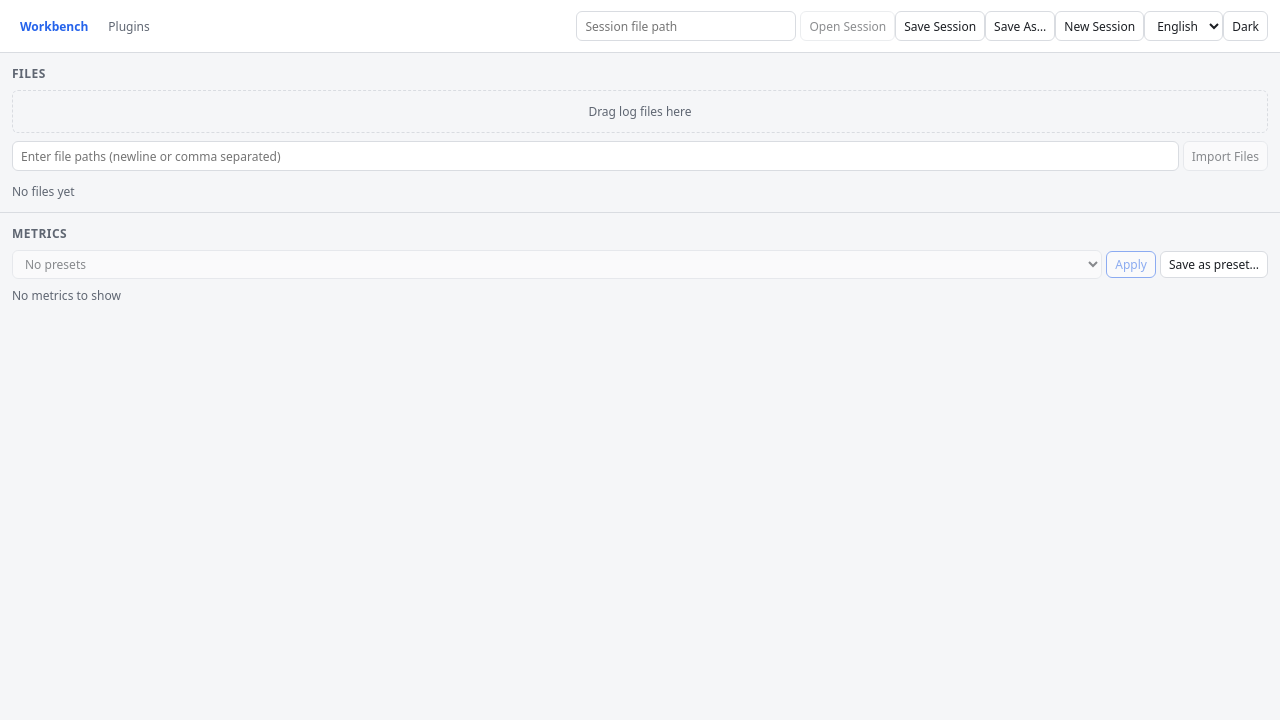
Test: 会话快照（契约 C1） › 打开会话重置 missing/reopenFailed 徽章状态（连续打开场景）
Type "C:\\sessions\\missing.absession" into the field labelled "Session file path" at (686, 26), box [576, 11, 796, 41]
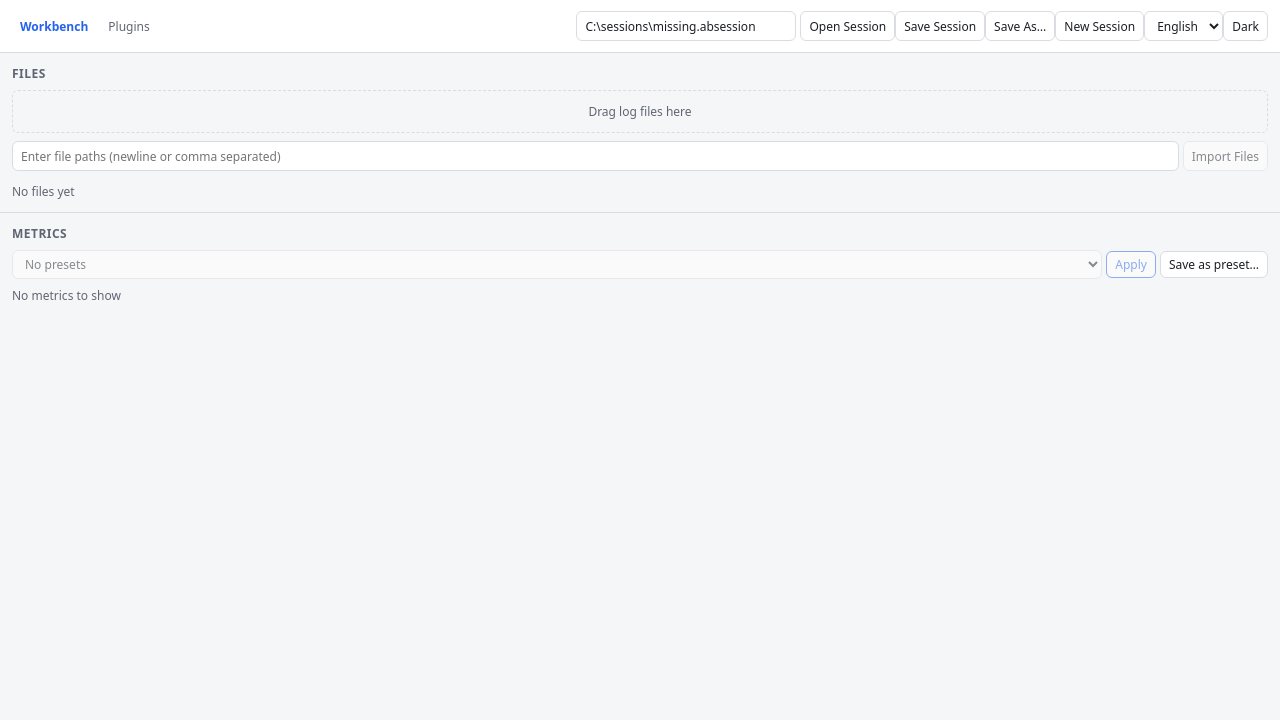
Click the button "Open Session" at (848, 26), box [800, 11, 895, 41]
Wait 500 ms
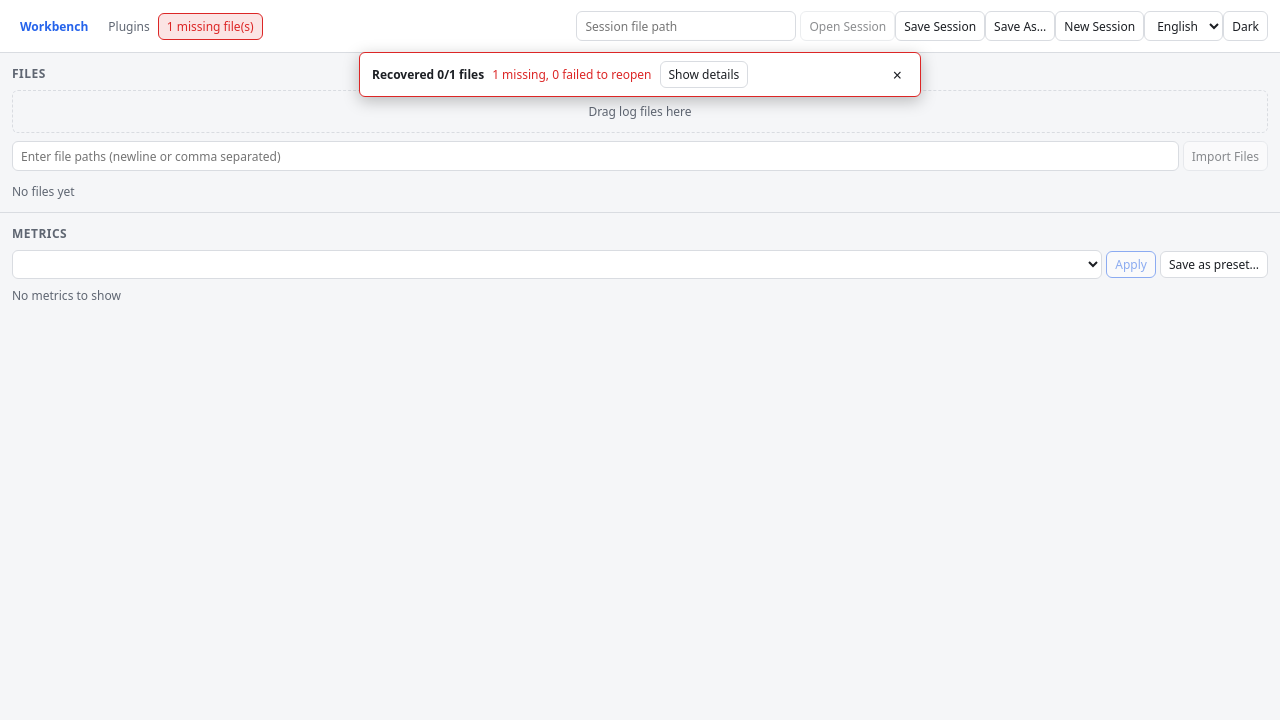
Expected: the message "1 missing file(s)" is shown, [158, 12, 263, 40]
Type "C:\\sessions\\ok.absession" into the field labelled "Session file path" at (686, 26), box [576, 11, 796, 41]
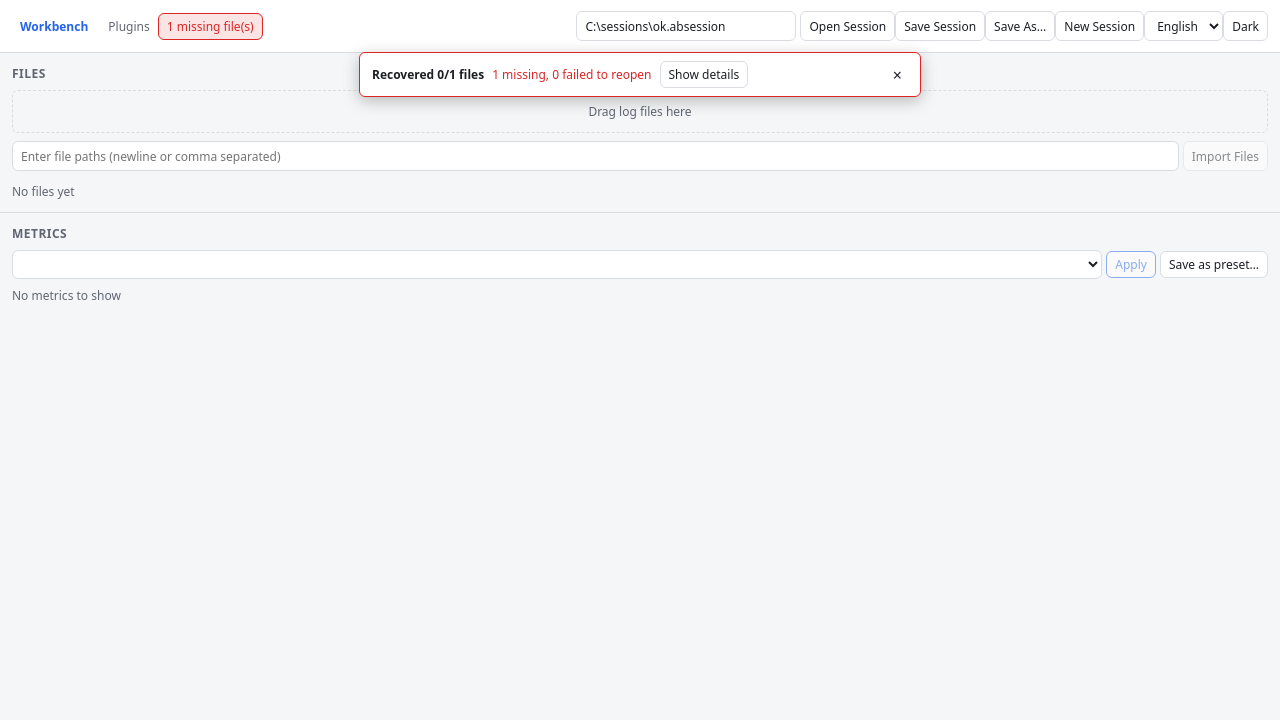
Click the button "Open Session" at (848, 26), box [800, 11, 895, 41]
Wait 500 ms
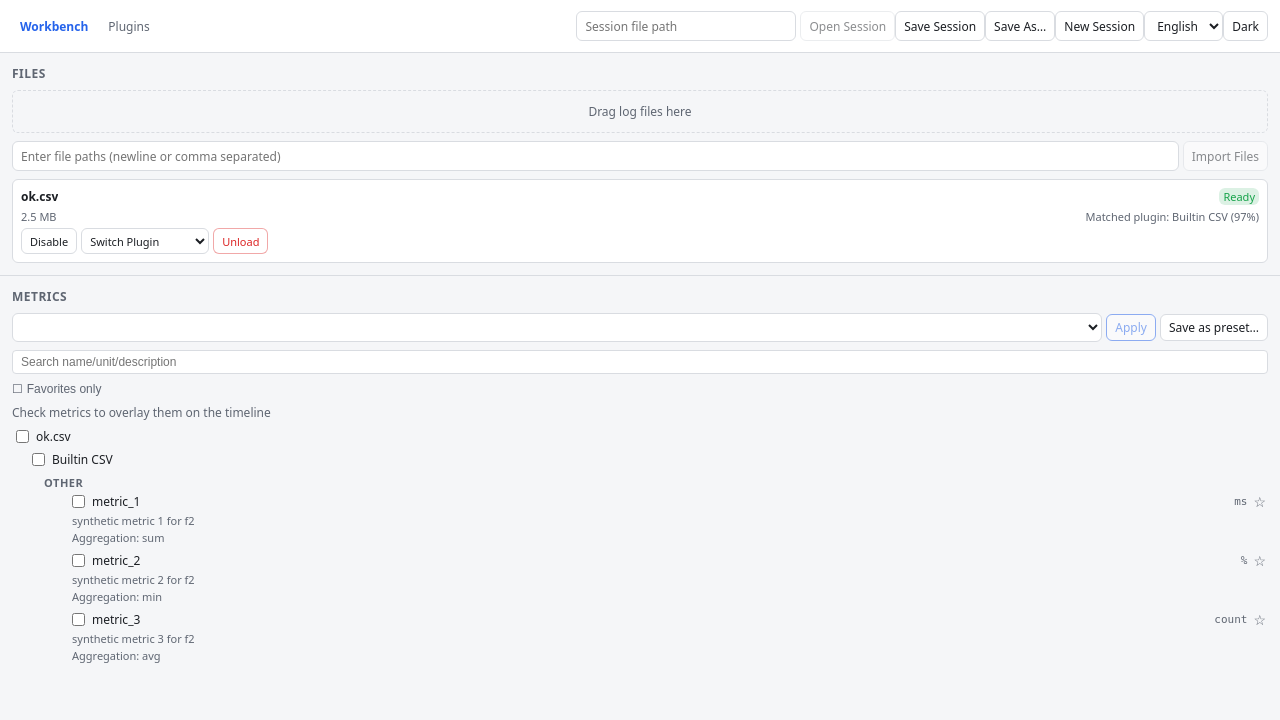
Expected: the message with test id "missing-badge" is gone
